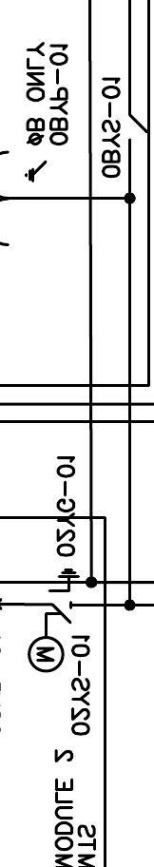115_3ways_ds_w_motor: (27, 567, 81, 674)
115_ds: (128, 114, 147, 142)
